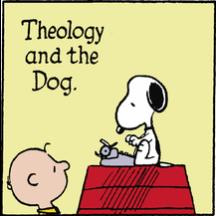charlie: (6, 140, 70, 216)
snoopy: (113, 74, 174, 168)
